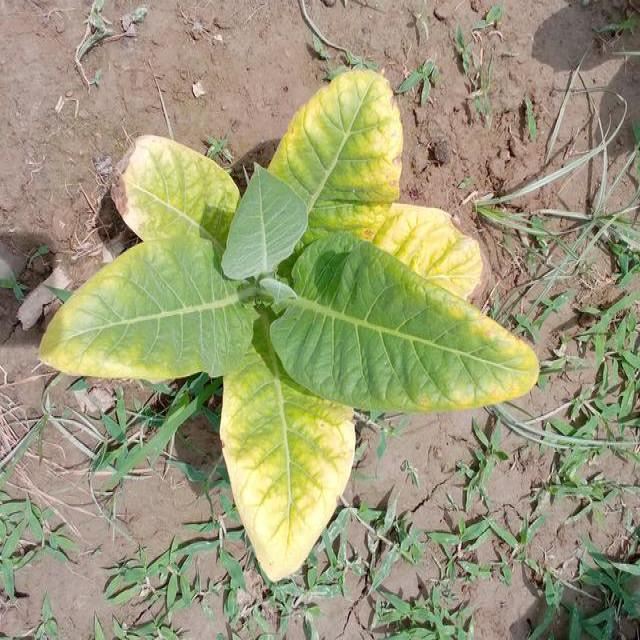crop: (41, 72, 534, 578)
